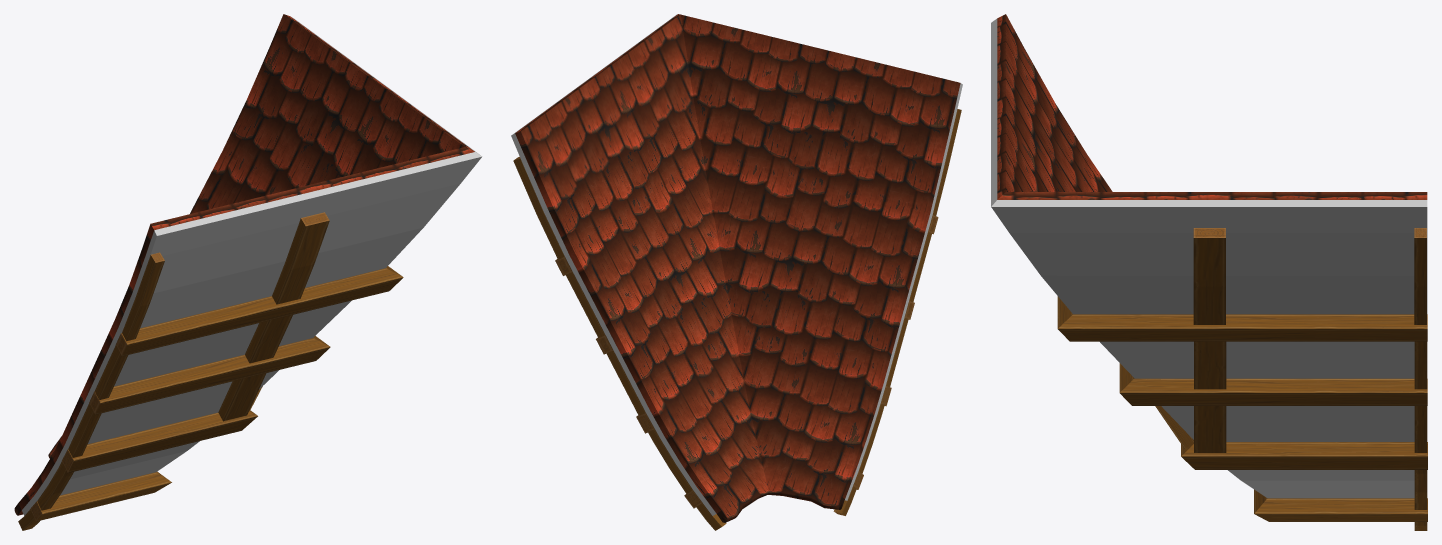
File: SM_House_Roof_01_Corner_Inner_Standard.fbx
3 views of the same model, side by side, from view 1: azimuth 30°, elevation 25°; view 2: azimuth 150°, elevation 25°; view 3: azimuth 270°, elevation 25° (orthographic). The views are drawn at different scales.
Visible parts, largest first — view 1: SM_House_Roof_01_Corner_Inner_Standard; view 2: SM_House_Roof_01_Corner_Inner_Standard; view 3: SM_House_Roof_01_Corner_Inner_Standard.
Part boxes in pixels (box(x1,y1,x2,y2)): SM_House_Roof_01_Corner_Inner_Standard: box(14, 14, 482, 530); SM_House_Roof_01_Corner_Inner_Standard: box(511, 14, 962, 530); SM_House_Roof_01_Corner_Inner_Standard: box(991, 14, 1427, 530).
Size of the model in its own units: 5.04 by 5.9 by 5.03.
